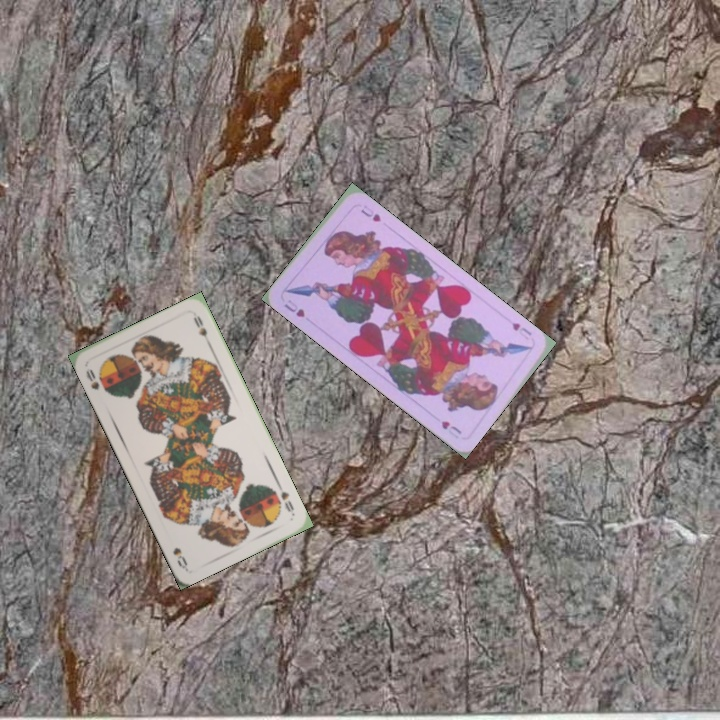HU: (280, 295, 308, 320), (508, 318, 534, 342)
SO: (273, 479, 296, 514), (82, 364, 102, 393)
